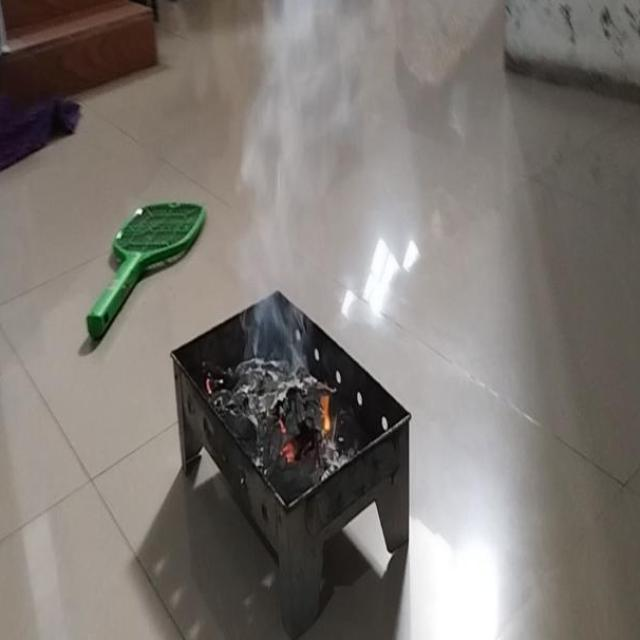fire: (234, 0, 344, 297)
smoke: (314, 390, 336, 434)
